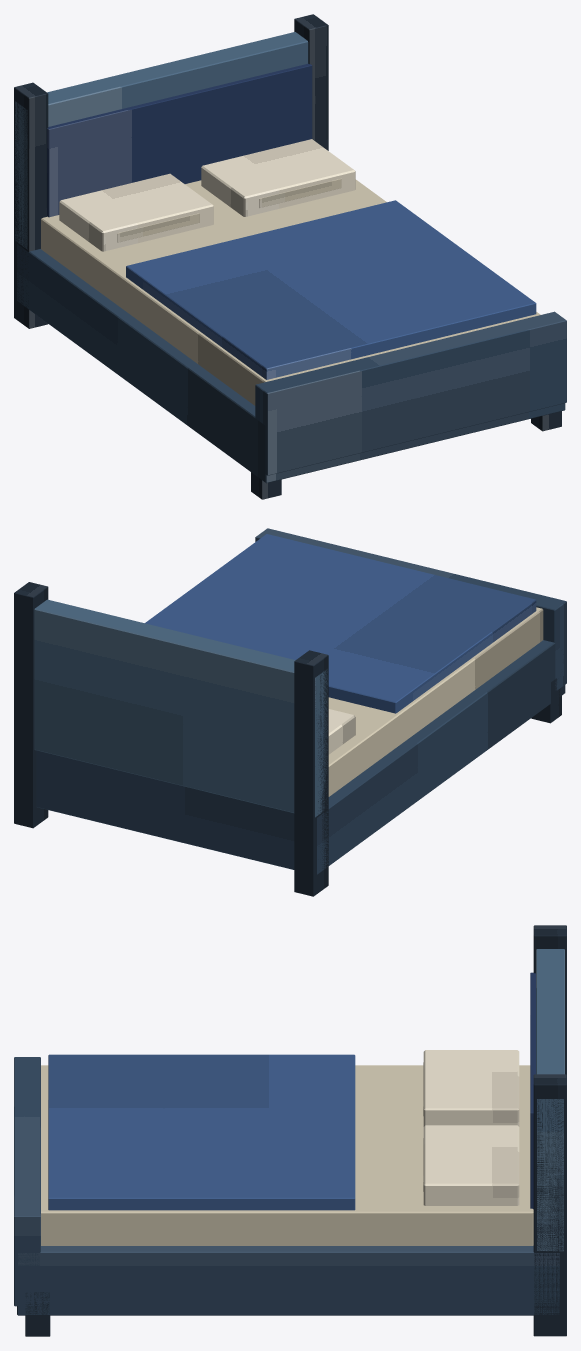
File: double_bed_navy.glb
3 views of the same model, one above another, from view 1: azimuth 30°, elevation 25°; view 2: azimuth 150°, elevation 25°; view 3: azimuth 270°, elevation 25° (orthographic). The views are drawn at different scales.
Visible parts, largest first — view 1: Blanket, Footboard, HeadboardInset, BedFrame, Mattress, HeadboardPanel, Pillow_1, Pillow_2, HeadPostL, HeadPostR, PillowBand_1, PillowBand_2; view 2: HeadboardPanel, Blanket, BedFrame, Mattress, HeadPostL, HeadPostR, Footboard, Pillow_1, FootL; view 3: Blanket, BedFrame, Mattress, Pillow_2, HeadboardPanel, HeadPostR, Pillow_1, Footboard, HeadboardInset, HeadPostL, FootR.
Boxes of the visible parts, x1,y1,x2,y2 form: Blanket: (126, 200, 536, 379); Footboard: (255, 311, 566, 475); HeadboardInset: (47, 63, 312, 217); BedFrame: (17, 244, 565, 483); Mattress: (41, 179, 540, 405); HeadboardPanel: (15, 32, 308, 249); Pillow_1: (59, 173, 213, 251); Pillow_2: (201, 139, 355, 216); HeadPostL: (14, 82, 48, 328); HeadPostR: (294, 14, 328, 150); PillowBand_1: (117, 213, 199, 242); PillowBand_2: (259, 178, 341, 207); HeadboardPanel: (34, 599, 327, 817); Blanket: (145, 534, 536, 713); BedFrame: (36, 640, 565, 874); Mattress: (328, 607, 543, 796); HeadPostL: (294, 650, 328, 896); HeadPostR: (14, 582, 48, 828); Footboard: (255, 528, 566, 690); Pillow_1: (328, 709, 355, 754); FootL: (531, 678, 561, 723); Blanket: (48, 1054, 355, 1210); BedFrame: (17, 1245, 559, 1315); Mattress: (41, 1065, 533, 1245); Pillow_2: (423, 1125, 519, 1205); HeadboardPanel: (536, 949, 564, 1251); HeadPostR: (533, 1074, 566, 1336); Pillow_1: (423, 1050, 519, 1126); Footboard: (14, 1057, 40, 1306); HeadboardInset: (530, 972, 535, 1209); HeadPostL: (533, 925, 566, 1074); FootR: (25, 1292, 50, 1336).
Bounding box in the file's own units: 1.82 × 1.34 × 2.66.
1 material, 1 textured.
